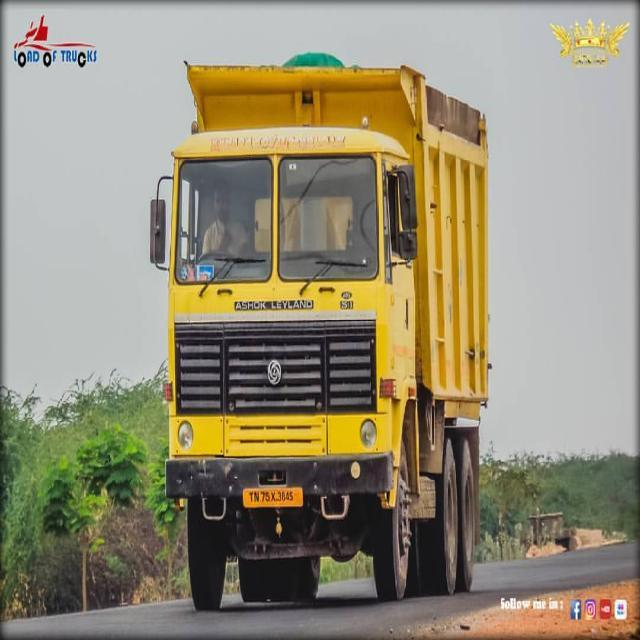Truck: (147, 57, 491, 614)
